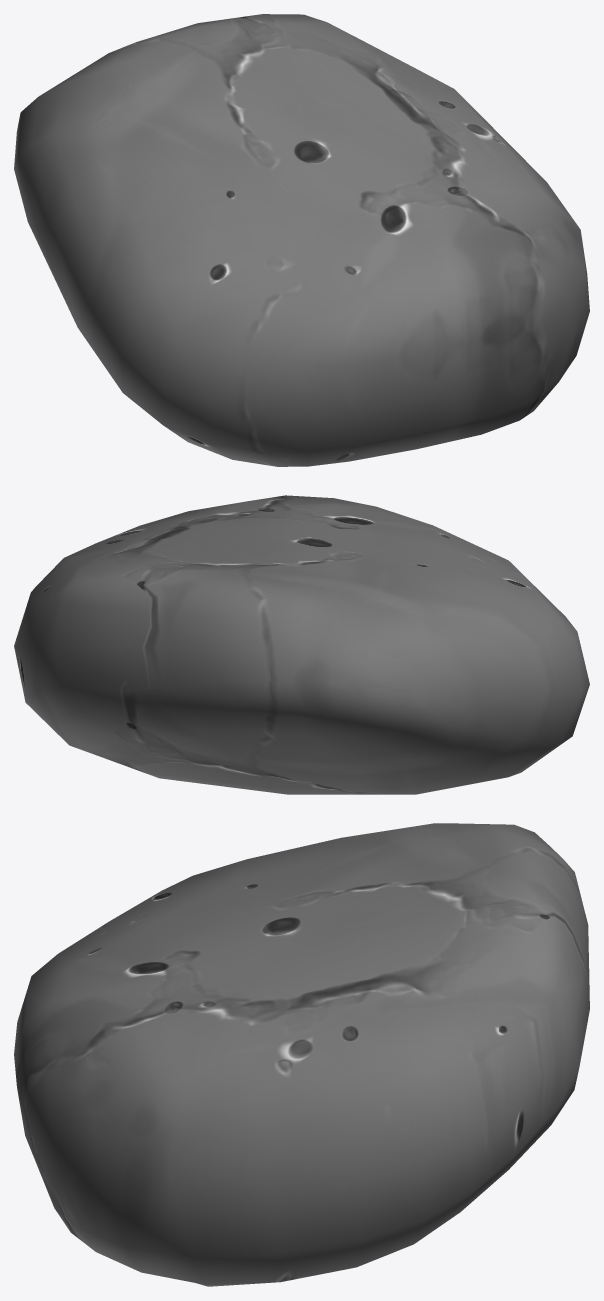
Rendered from SM_ENV_stone_02.fbx.
The picture shows the model from 3 angles, top to bottom: view 1: azimuth 30°, elevation 25°; view 2: azimuth 150°, elevation 25°; view 3: azimuth 270°, elevation 25°; orthographic projection. The views are drawn at different scales.
Visible parts, largest first — view 1: SM_ENV_stone_02_LOD0; view 2: SM_ENV_stone_02_LOD0; view 3: SM_ENV_stone_02_LOD0.
Part boxes in pixels (x1,y1,x2,y2): SM_ENV_stone_02_LOD0: (14, 14, 589, 466); SM_ENV_stone_02_LOD0: (14, 495, 589, 794); SM_ENV_stone_02_LOD0: (14, 823, 589, 1286).
Size of what is drawn, in the model's own units: 197 by 121 by 192.
